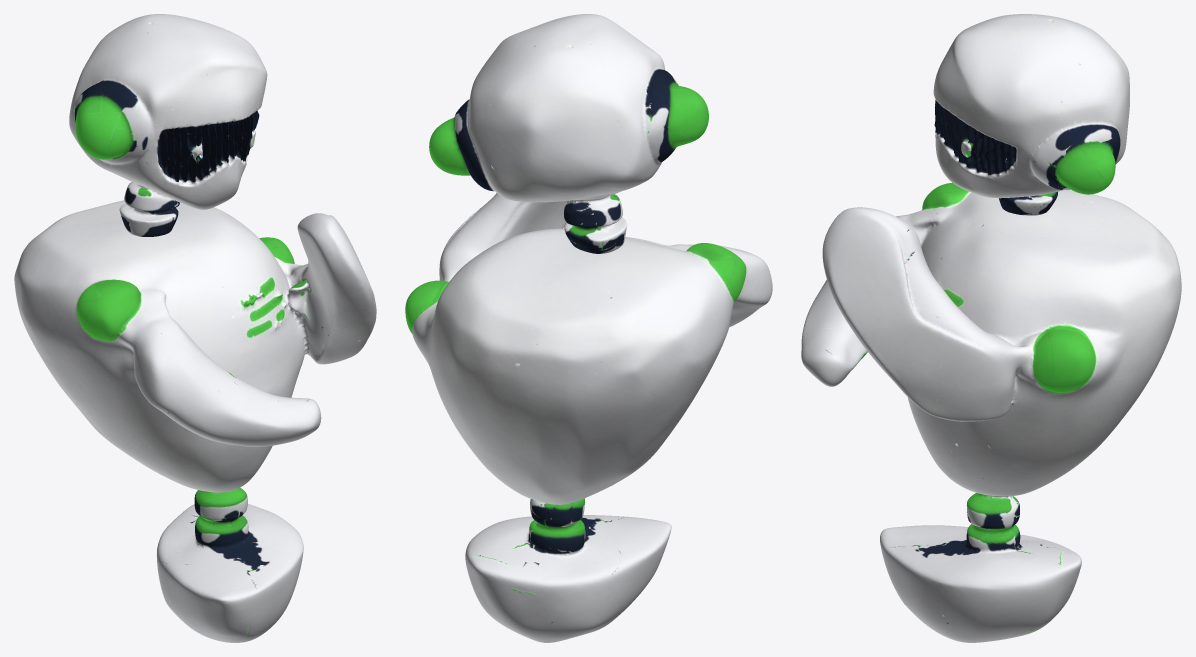
Rendered from robot.glb.
3 views of the same model, side by side, from view 1: azimuth 30°, elevation 25°; view 2: azimuth 150°, elevation 25°; view 3: azimuth 270°, elevation 25° (orthographic). The views are drawn at different scales.
Bounding box in the file's own units: 0.9821 × 2 × 1.16.
1 material, 1 textured.
